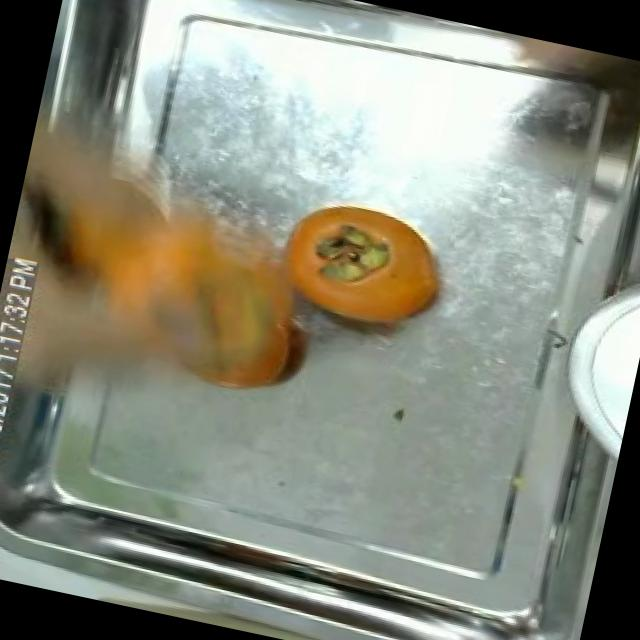Fruit: (255, 183, 470, 356)
